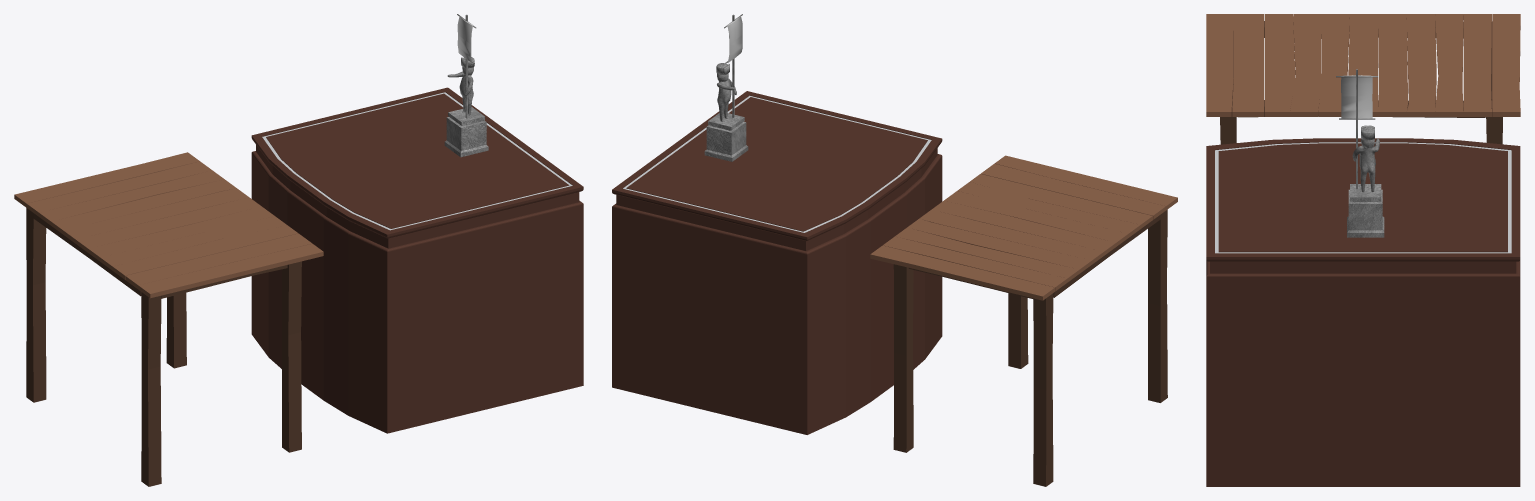
Rendered from Table_2.fbx.
3 renders of one model, left to right at view 1: azimuth 30°, elevation 25°; view 2: azimuth 150°, elevation 25°; view 3: azimuth 270°, elevation 25°, orthographic. The views are drawn at different scales.
Parts seen in each view (by area): view 1: Cube.268; view 2: Cube.268; view 3: Cube.268.
Part boxes in pixels (x1,y1,x2,y2): Cube.268: [14, 14, 583, 486]; Cube.268: [612, 14, 1177, 486]; Cube.268: [1206, 14, 1520, 486].
Size of the model in its own units: 3704 by 2746 by 2011.
